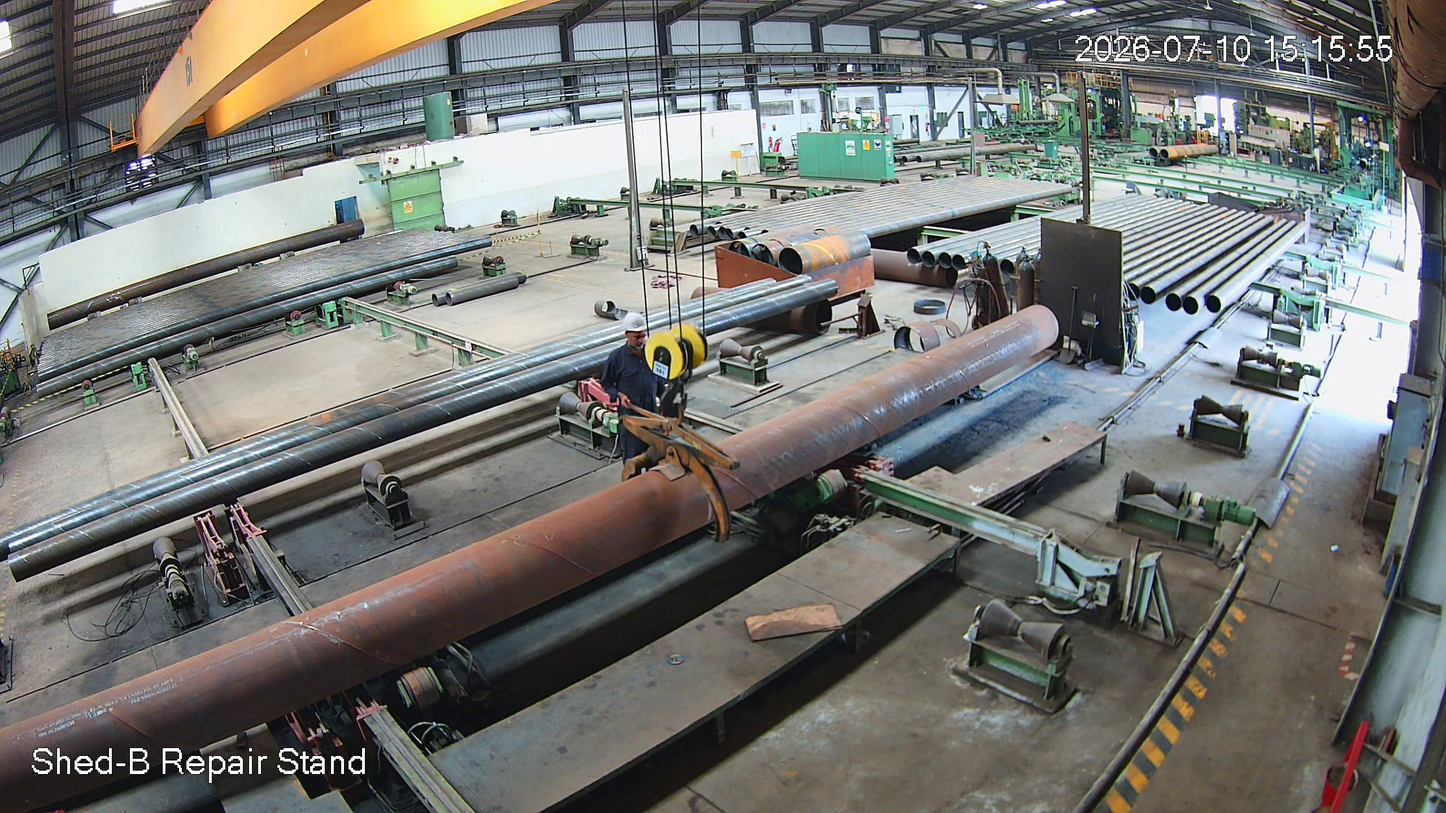Helmet: (613, 310, 652, 374)
Person: (600, 314, 665, 445)
